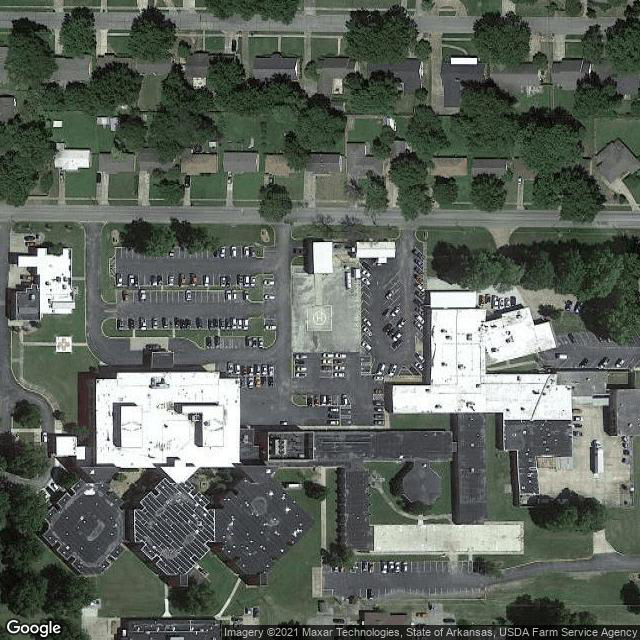Helipad: (304, 302, 334, 334), (54, 335, 72, 353)
